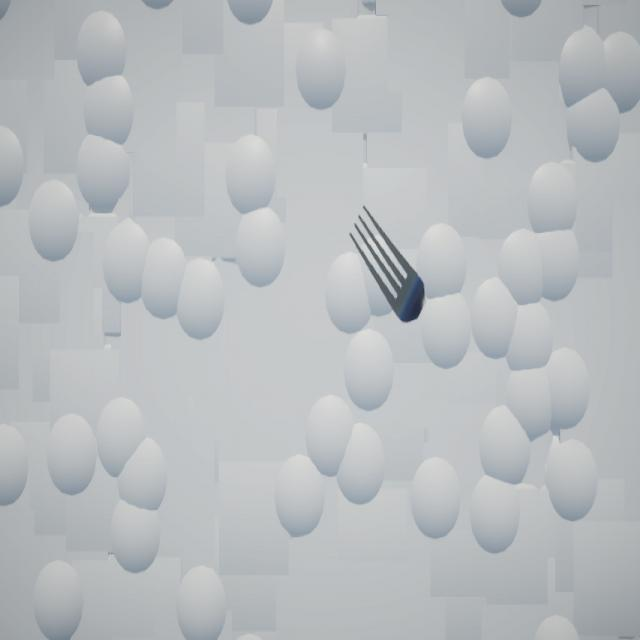top_folk: (351, 206, 427, 325)
